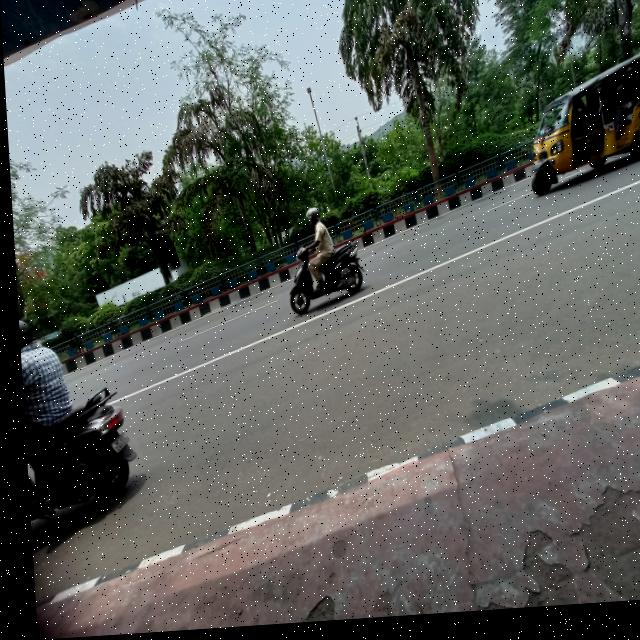bike: (19, 399, 134, 514), (277, 241, 371, 318)
